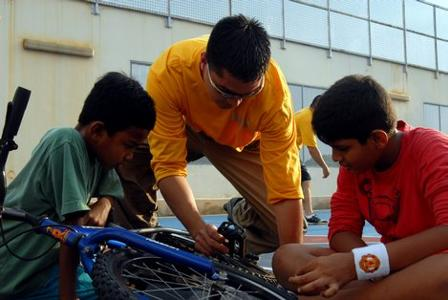person: (106, 10, 309, 253)
